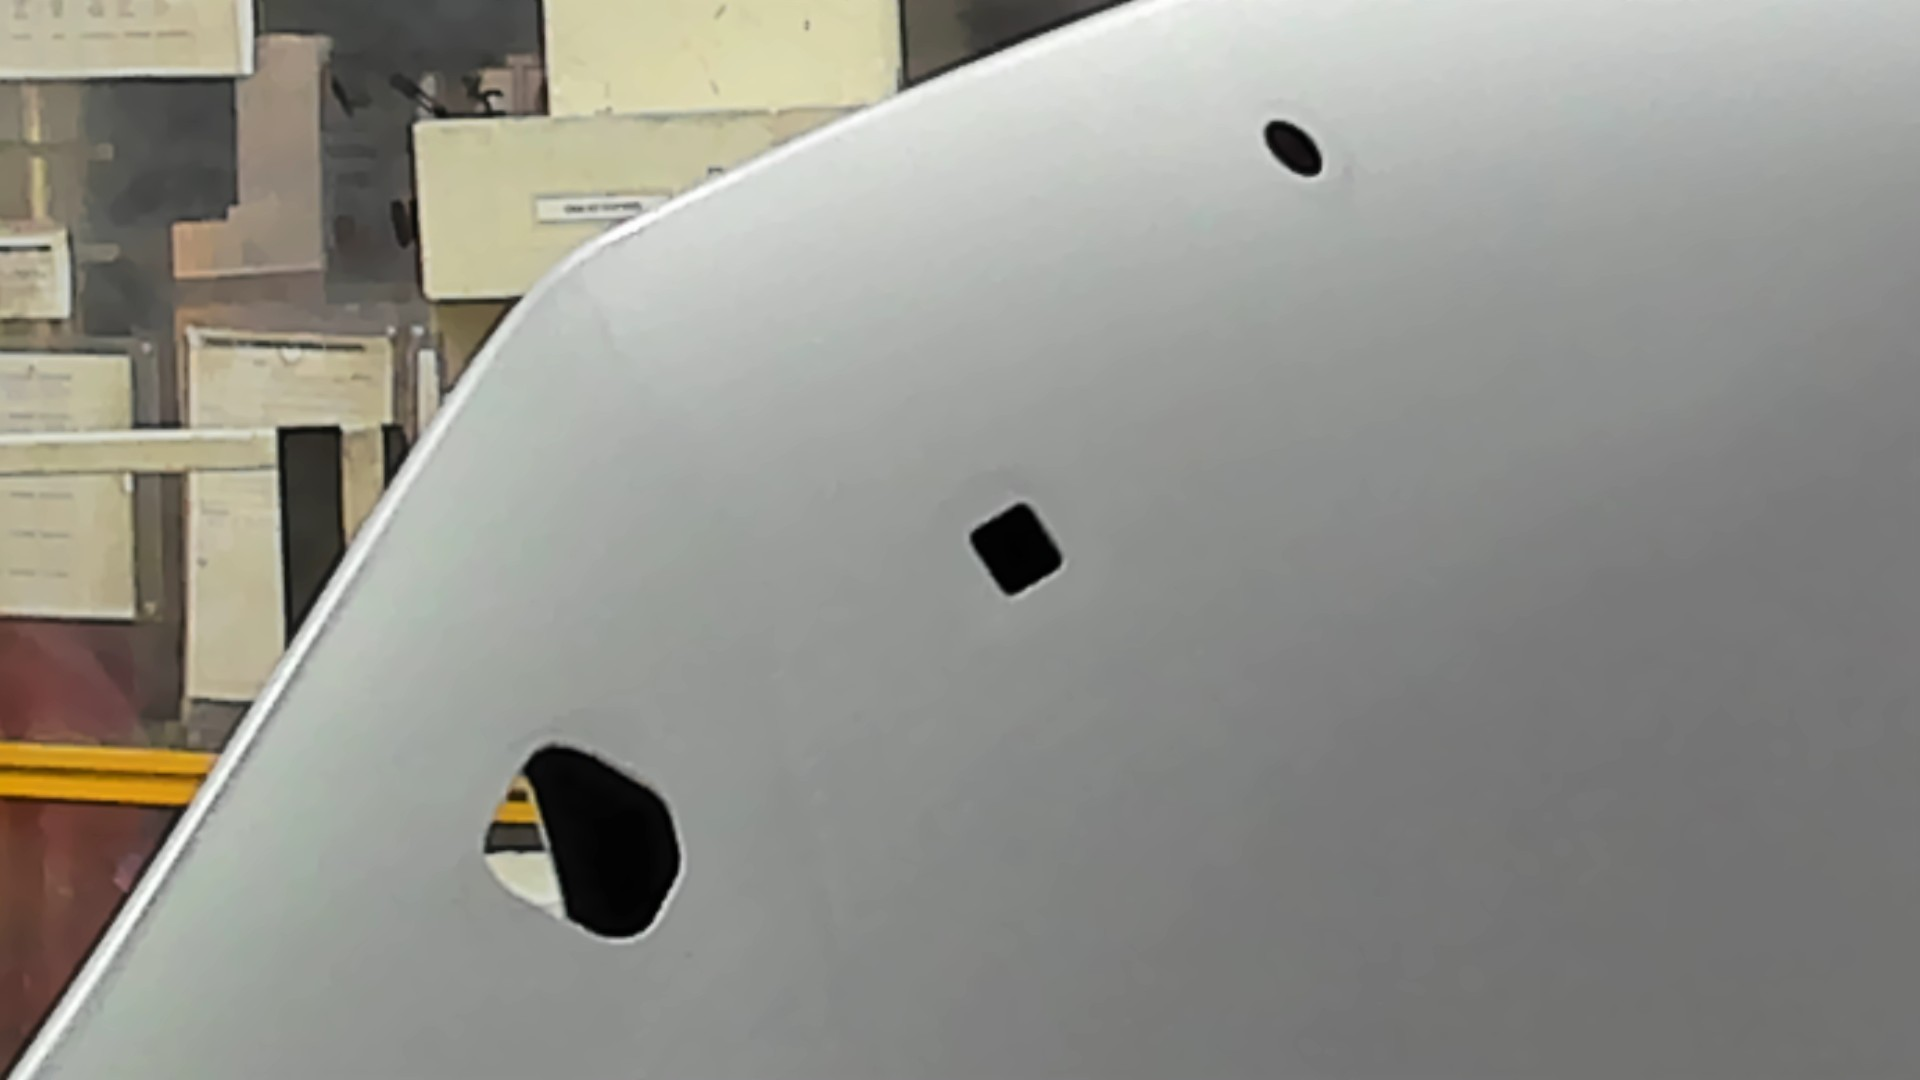capo: (1077, 200, 1920, 1080)
chico: (1259, 113, 1329, 185)
grande: (477, 735, 686, 949)
mediano: (961, 495, 1071, 603)
